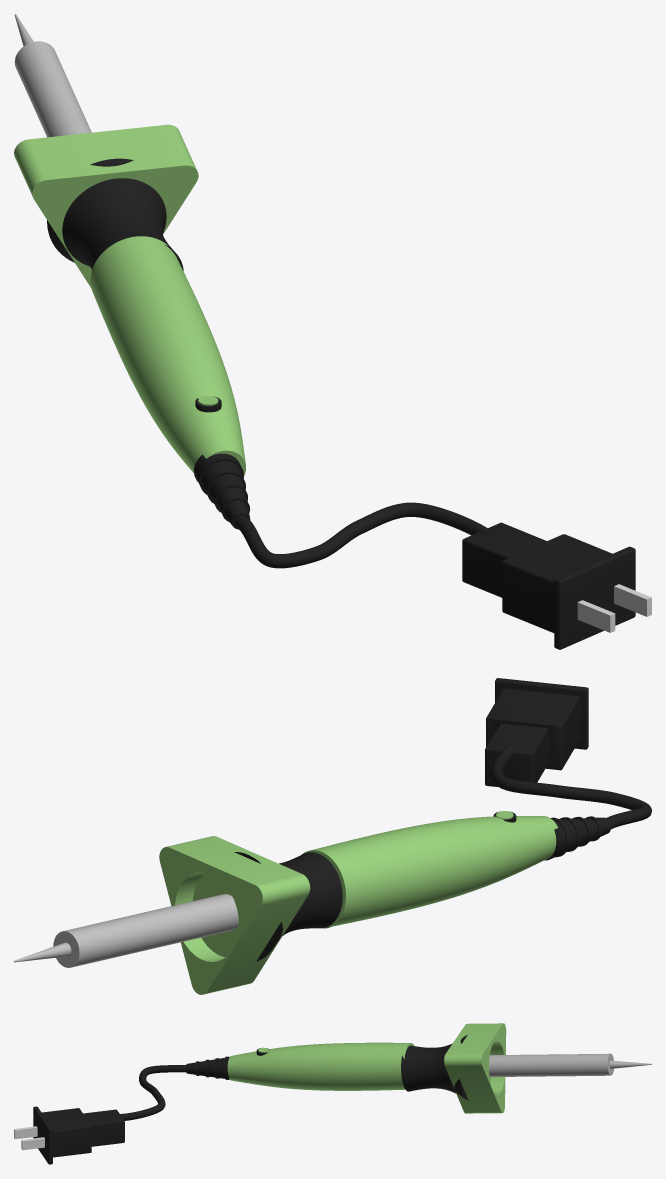
Rendered from soldering_iron__5437f0240c33.glb.
3 renders of one model, top to bottom at view 1: azimuth 30°, elevation 25°; view 2: azimuth 150°, elevation 25°; view 3: azimuth 270°, elevation 25°, orthographic. The views are drawn at different scales.
Parts seen in each view (by area): view 1: grip, plug_body, guard, neck, shaft, cord, sleeve; view 2: grip, guard, plug_body, shaft, neck, cord, sleeve; view 3: grip, guard, plug_body, shaft, neck, cord, sleeve, blade.001, blade.002.
Boxes of the visible parts, x1,y1,x2,y2 form: grip: (90, 236, 245, 475); plug_body: (462, 522, 635, 649); guard: (14, 124, 198, 287); neck: (47, 158, 183, 270); shaft: (14, 14, 91, 137); cord: (234, 502, 492, 568); sleeve: (193, 453, 250, 529); grip: (301, 816, 557, 927); guard: (159, 836, 310, 994); plug_body: (485, 678, 588, 786); shaft: (14, 894, 238, 967); neck: (234, 852, 342, 961); cord: (491, 745, 651, 829); sleeve: (544, 816, 610, 860); grip: (227, 1042, 414, 1090); guard: (444, 1023, 506, 1113); plug_body: (33, 1106, 124, 1164); shaft: (489, 1053, 651, 1076); neck: (401, 1034, 468, 1100); cord: (116, 1065, 185, 1120); sleeve: (185, 1056, 229, 1079); blade.001: (14, 1126, 37, 1139); blade.002: (21, 1137, 44, 1150).
Bounding box in the file's own units: 0.0668 × 0.0448 × 0.2598.
